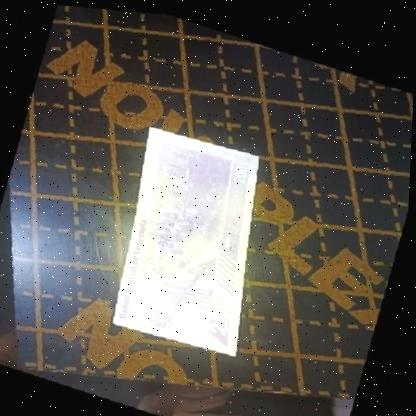two_hundred-back-vef: (109, 120, 279, 354)
